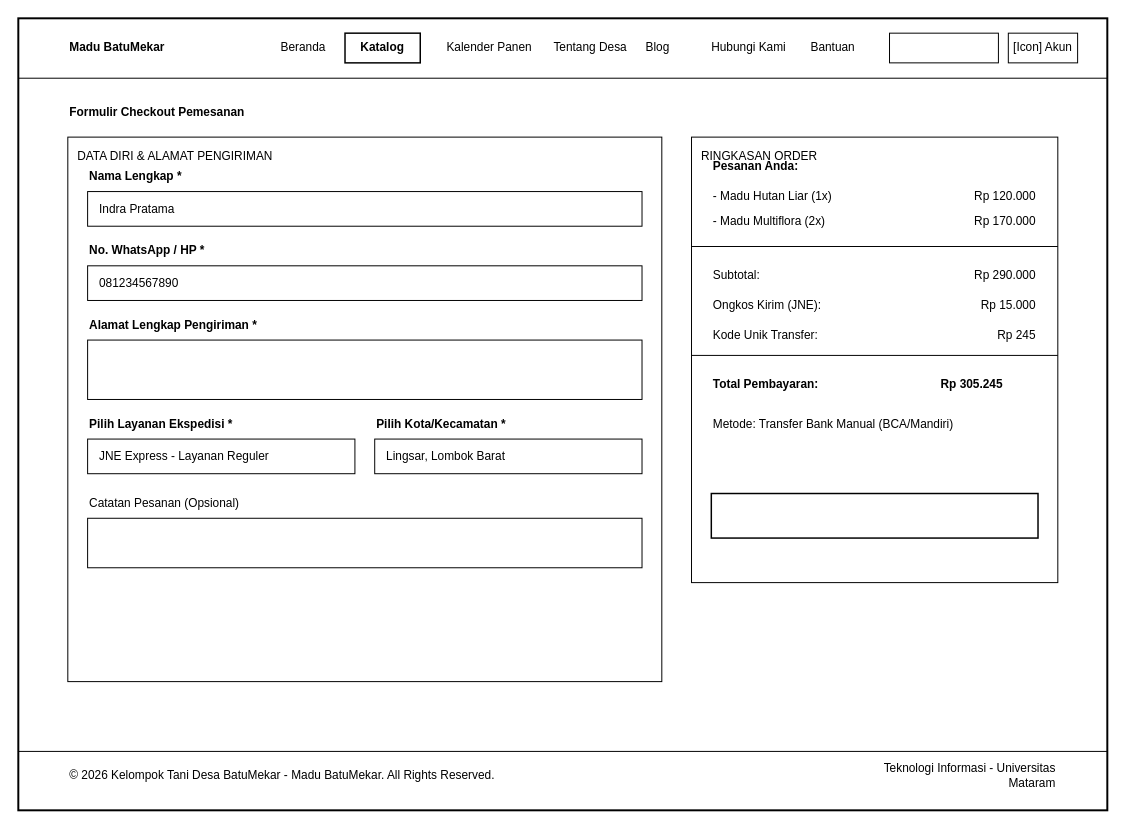
Image size: 1125x828. Some labels were removed from this diagram. The shapes that lost their labels are listed below. From the top down, each one's centre as x and y in pixels, then its label:
At point (943, 47): "[Icon] Keranjang (2)".
At point (364, 369): "Jl. Raya Narmada, Gg. Damai No. 12, Lombok Barat".
At point (874, 515): "Buat Pesanan & Bayar".
At point (364, 542): "Mohon packing bubble wrap tebal.".
